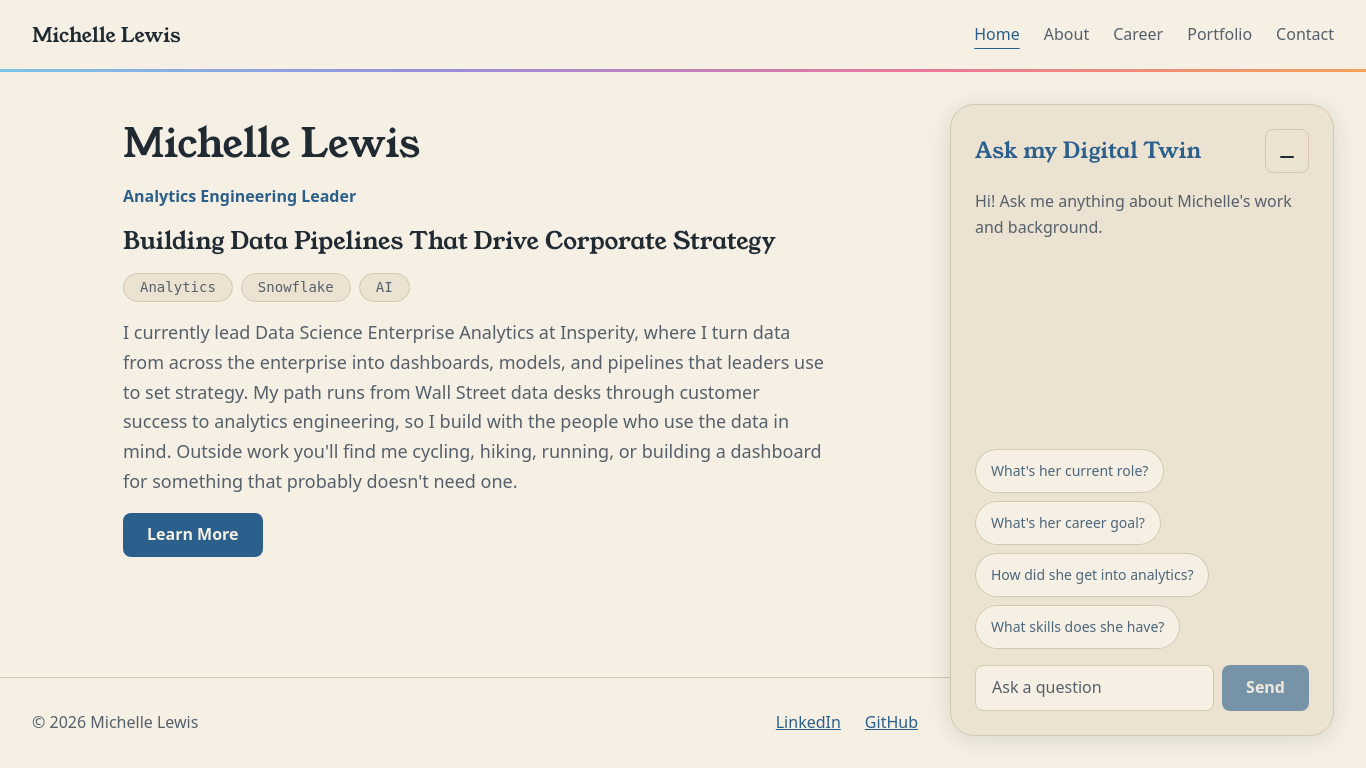
desktop: minimizing hides the chat and focuses the header button
Click the button named "Minimize chat": (1287, 151) [1265,129,1309,173]
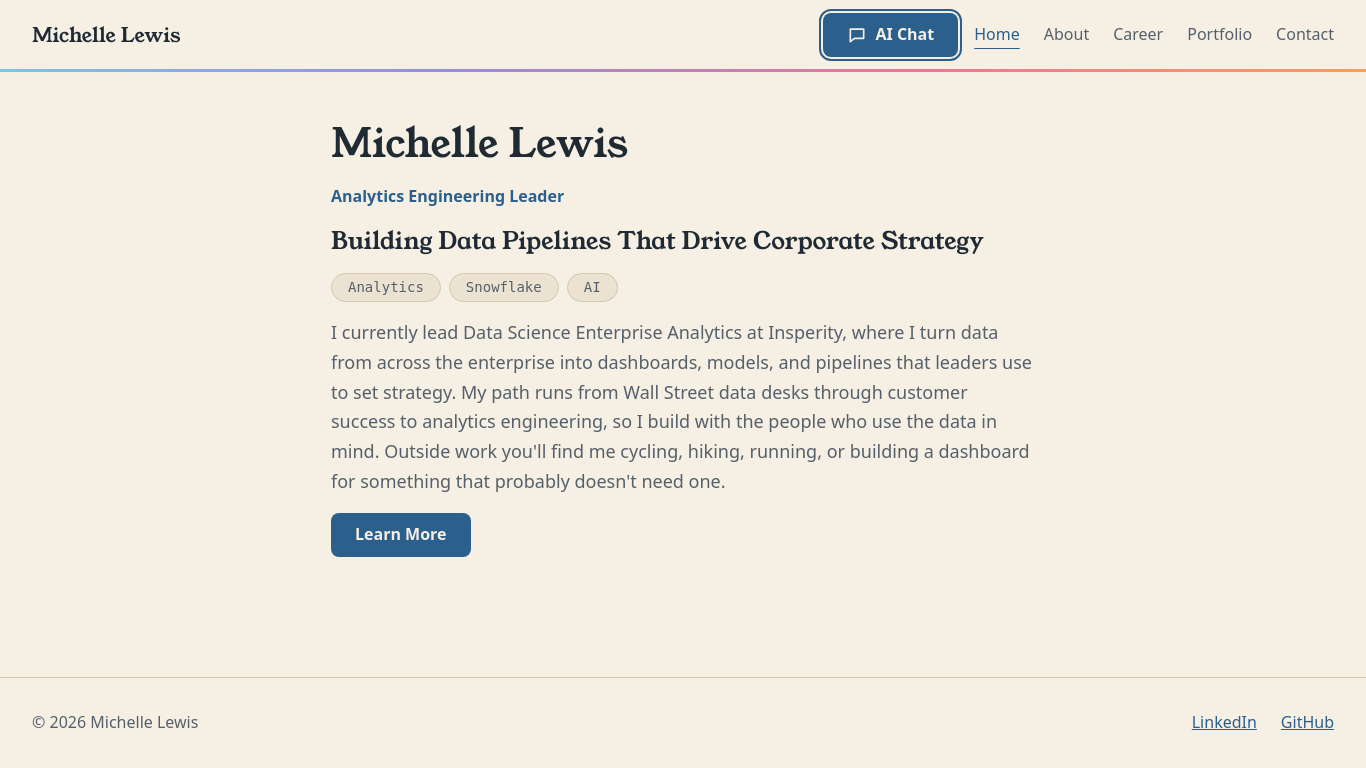
Expected: the heading "Ask my Digital Twin" is gone
